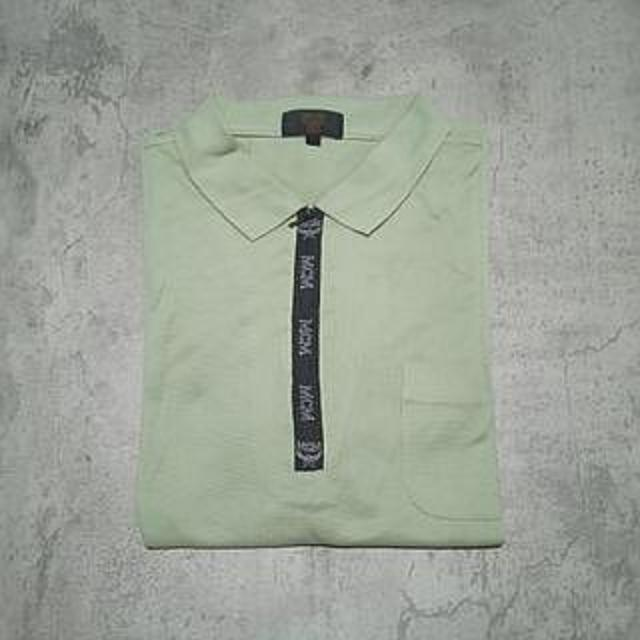SHIRT: (114, 86, 526, 558)
